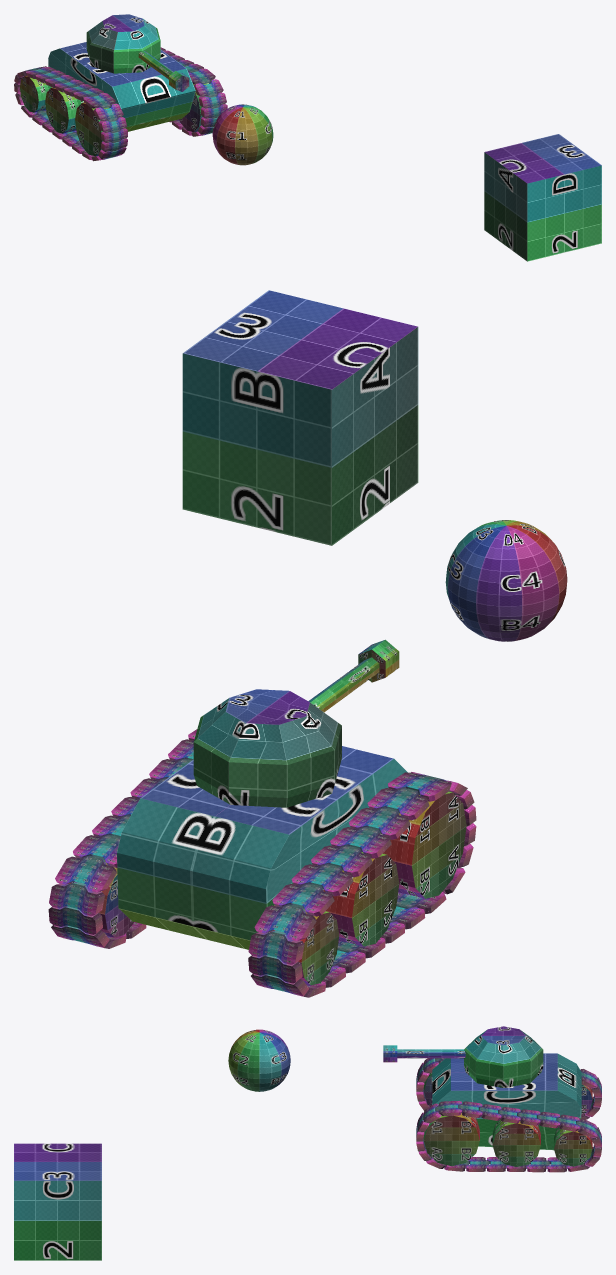
File: tank3.gltf
The picture shows the model from 3 angles, top to bottom: view 1: azimuth 30°, elevation 25°; view 2: azimuth 150°, elevation 25°; view 3: azimuth 270°, elevation 25°; orthographic projection. The views are drawn at different scales.
Visible parts, largest first — view 1: Cube, gosenica, telo, glava, bullet, kolo01, kolo02, kolo03, top; view 2: Cube, telo, gosenica, glava, bullet, kolo01, kolo02, kolo03, top, top_glava; view 3: Cube, telo, gosenica, glava, bullet, kolo01, kolo02, kolo03, top.
Part boxes in pixels (x1,y1,x2,y2): Cube: (484,134,601,261); gosenica: (14,47,227,161); telo: (48,42,195,131); glava: (86,14,160,73); bullet: (212,104,273,165); kolo01: (75,79,212,156); kolo02: (45,87,84,133); kolo03: (20,76,51,112); top: (138,50,173,79); Cube: (182,290,418,545); telo: (117,746,407,949); gosenica: (48,729,476,997); glava: (193,689,341,807); bullet: (445,520,567,641); kolo01: (380,791,466,898); kolo02: (323,852,399,946); kolo03: (68,860,339,985); top: (308,657,379,712); top_glava: (358,639,399,682); Cube: (14,1143,101,1260); telo: (432,1053,581,1150); gosenica: (416,1058,601,1172); glava: (464,1026,543,1087); bullet: (228,1029,290,1091); kolo01: (423,1073,479,1166); kolo02: (492,1119,540,1166); kolo03: (554,1084,592,1166); top: (397,1049,465,1058).
Size of the model in its own units: 8.05 by 2.73 by 13.35.
5 materials, 5 textured.
